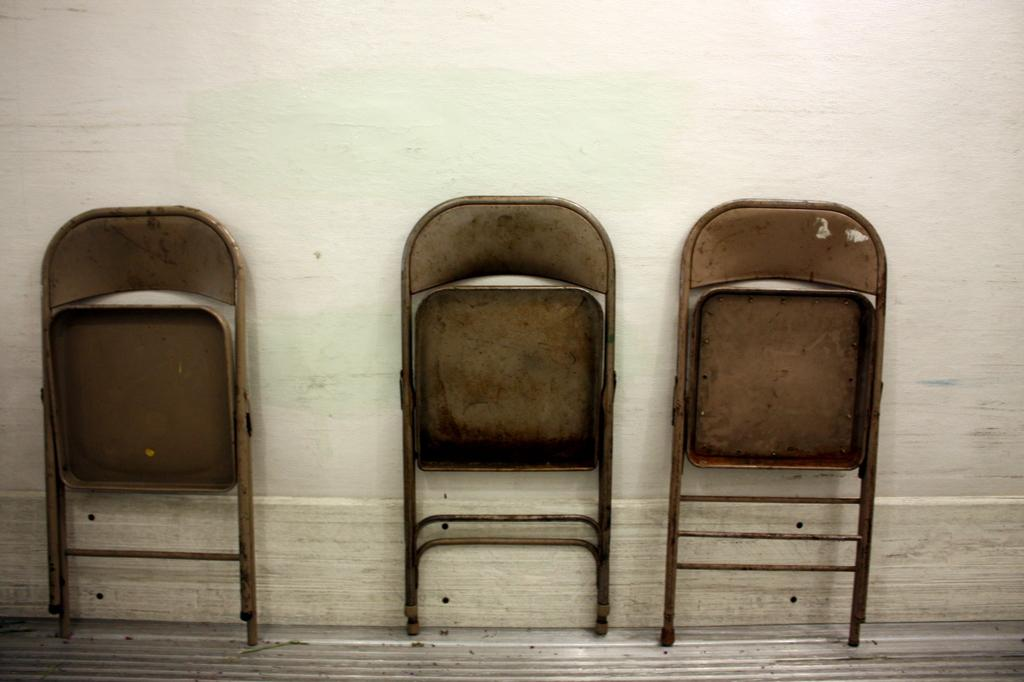Chair: (405, 188, 651, 644), (660, 192, 884, 646), (38, 204, 258, 647)
